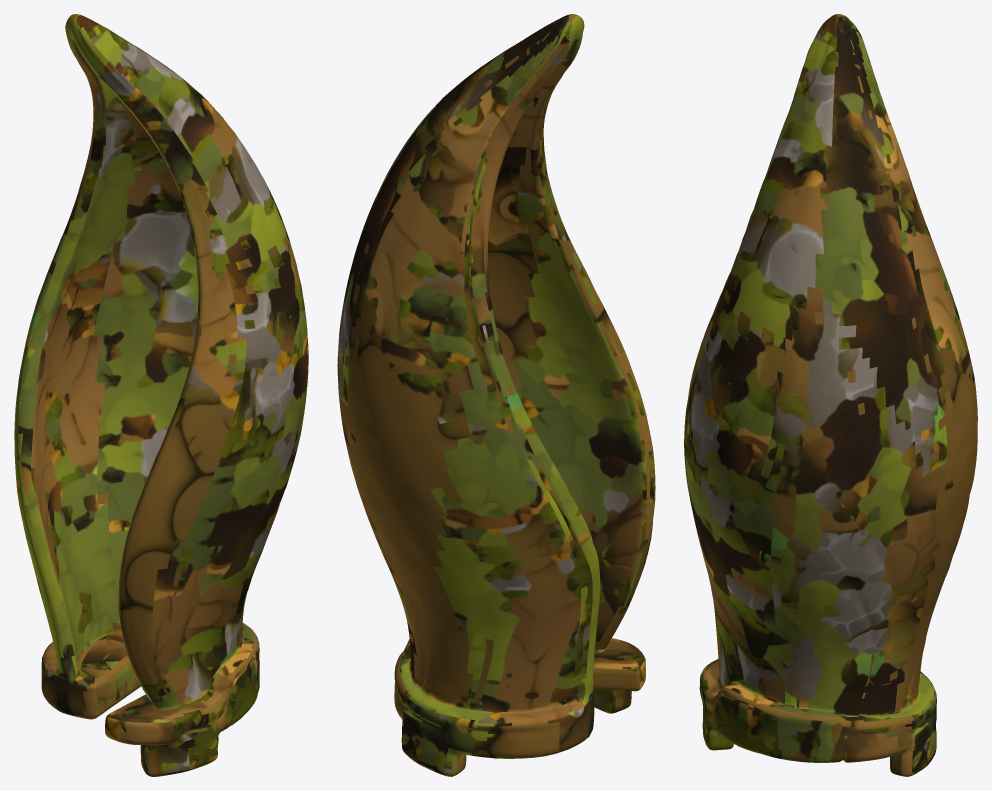
The model's file is nat-Base-Leafe-R-14800.fbx.
The picture shows the model from 3 angles, left to right: view 1: azimuth 30°, elevation 25°; view 2: azimuth 150°, elevation 25°; view 3: azimuth 270°, elevation 25°; orthographic projection. The views are drawn at different scales.
Visible parts, largest first — view 1: tripo_node_c114d663; view 2: tripo_node_c114d663; view 3: tripo_node_c114d663.
Part boxes in pixels (x1,y1,x2,y2): tripo_node_c114d663: (14,14,308,776); tripo_node_c114d663: (337,14,655,776); tripo_node_c114d663: (684,14,977,776).
Bounding box in the file's own units: 0.3517 × 0.9802 × 0.3703.
